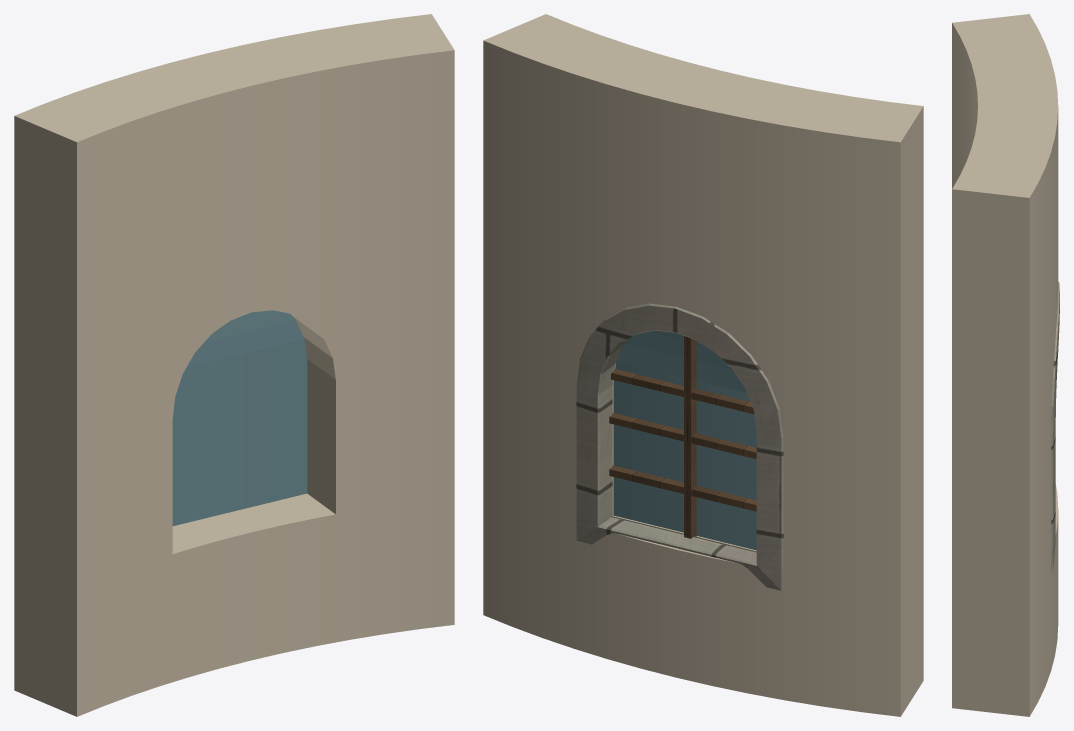
The model's file is Furn_Tower3_R45_Window.fbx.
3 views of the same model, side by side, from view 1: azimuth 30°, elevation 25°; view 2: azimuth 150°, elevation 25°; view 3: azimuth 270°, elevation 25° (orthographic). The views are drawn at different scales.
Visible parts, largest first — view 1: Furn_Tower3_R45_Window; view 2: Furn_Tower3_R45_Window; view 3: Furn_Tower3_R45_Window.
Boxes of the visible parts, x1=… form: Furn_Tower3_R45_Window: x1=14, y1=14, x2=454, y2=716; Furn_Tower3_R45_Window: x1=483, y1=14, x2=923, y2=716; Furn_Tower3_R45_Window: x1=952, y1=14, x2=1059, y2=716.
Bounding box in the file's own units: 2.66 × 3.5 × 0.6584.
